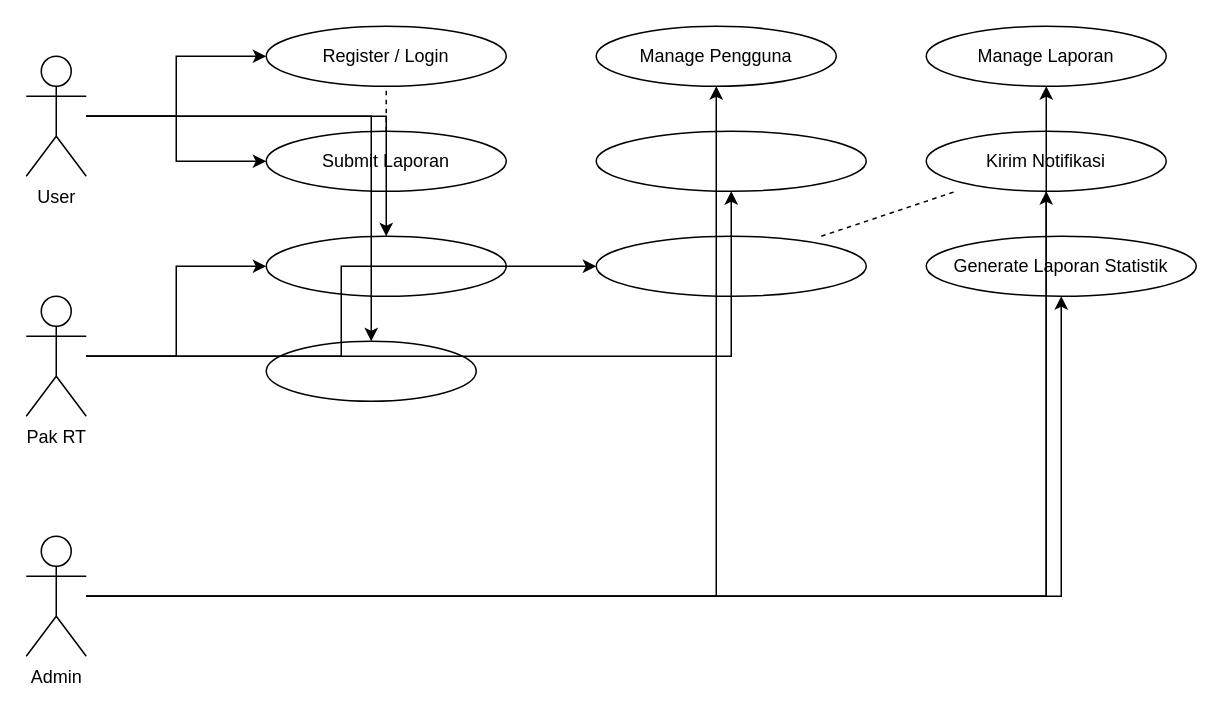
Image size: 1223x714. Some labels were removed from this diagram. The centre of each missing label's shape, as x and y in pixels:
"Komentar / Tindak Lanjut" belongs at point 730,160.
"Lihat Status Laporan" belongs at point 385,265.
"Tugaskan / Koordinasi" belongs at point 730,265.
"Update Profil" belongs at point 370,370.
